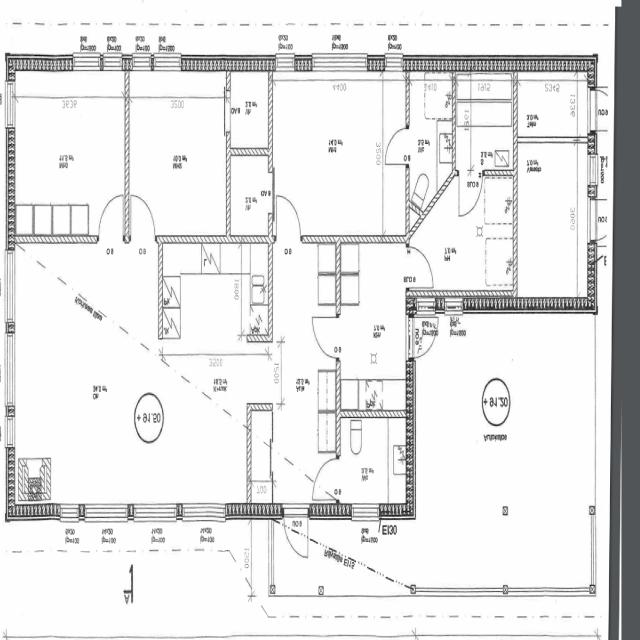door: (406, 317, 440, 358), (284, 504, 308, 560), (588, 200, 621, 240), (588, 90, 620, 130), (312, 458, 341, 500), (406, 246, 435, 288), (459, 169, 483, 217), (99, 194, 123, 242), (312, 317, 340, 358), (131, 195, 155, 242), (277, 195, 300, 242), (385, 128, 410, 164)
